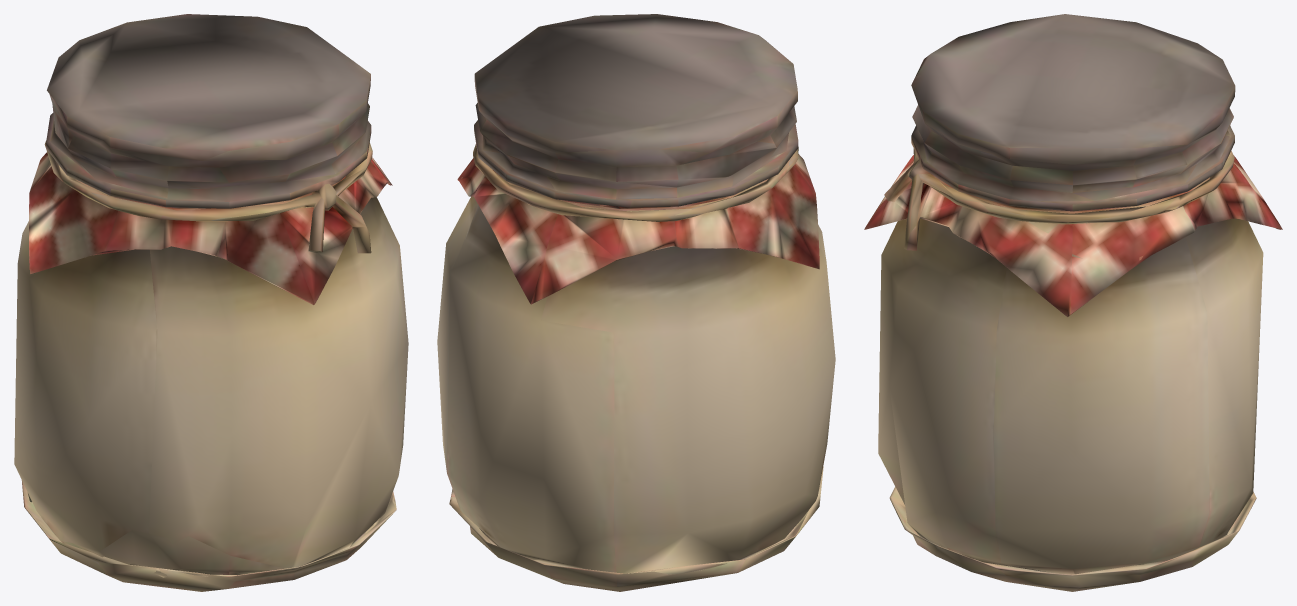
The model's file is g_danhuangjiang.glb.
3 renders of one model, left to right at view 1: azimuth 30°, elevation 25°; view 2: azimuth 150°, elevation 25°; view 3: azimuth 270°, elevation 25°, orthographic.
Parts seen in each view (by area): view 1: node_0; view 2: node_0; view 3: node_0.
Boxes of the visible parts, x1,y1,x2,y2 form: node_0: (14,14,408,591); node_0: (437,14,835,591); node_0: (864,14,1282,591).
Size of the model in its own units: 0.8401 by 1.02 by 0.8491.
Materials: 1 (1 with a texture image).
